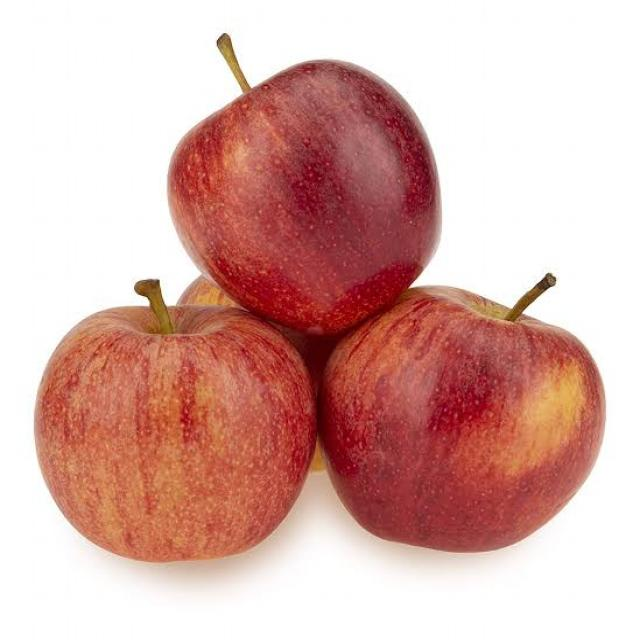Apple: (307, 280, 606, 555), (34, 283, 319, 565), (166, 60, 444, 341)
